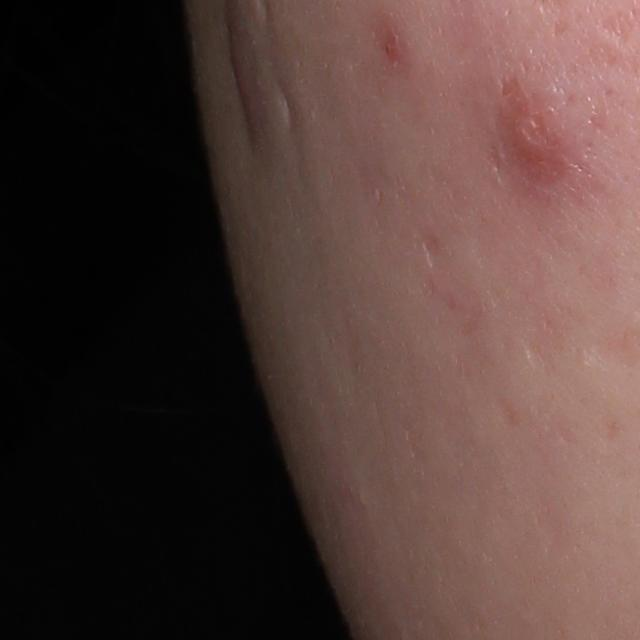atrophic_scar: (277, 84, 301, 134), (603, 11, 634, 44), (496, 394, 520, 425), (424, 236, 439, 266)
papule: (504, 78, 569, 189), (382, 32, 409, 72)
